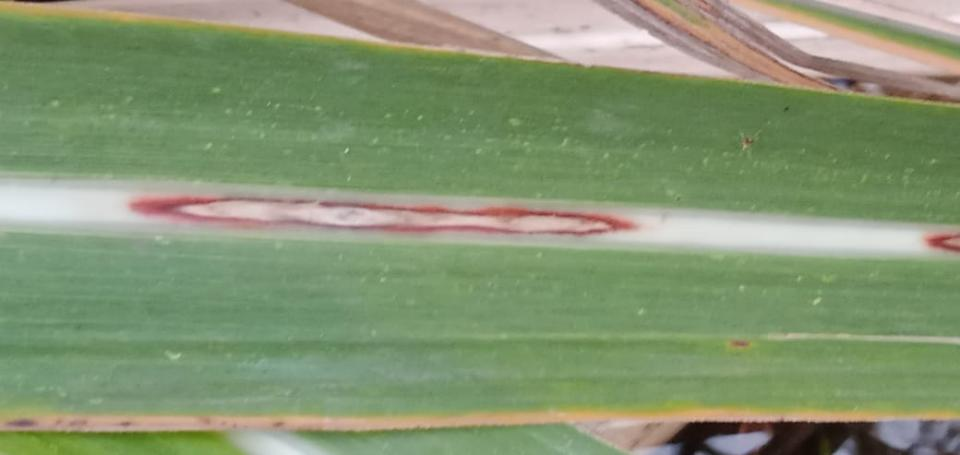RedRot: (126, 196, 643, 240), (922, 232, 959, 255)
Rust: (728, 339, 751, 349)
Yellow: (0, 0, 411, 50), (0, 410, 959, 431)
